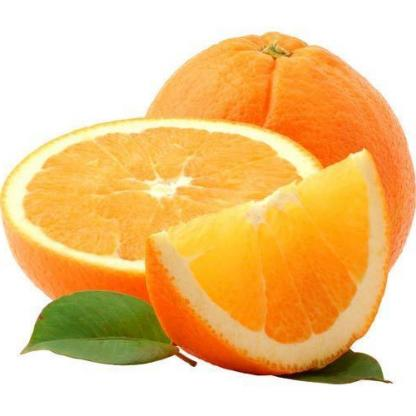orange: (134, 30, 413, 332)
